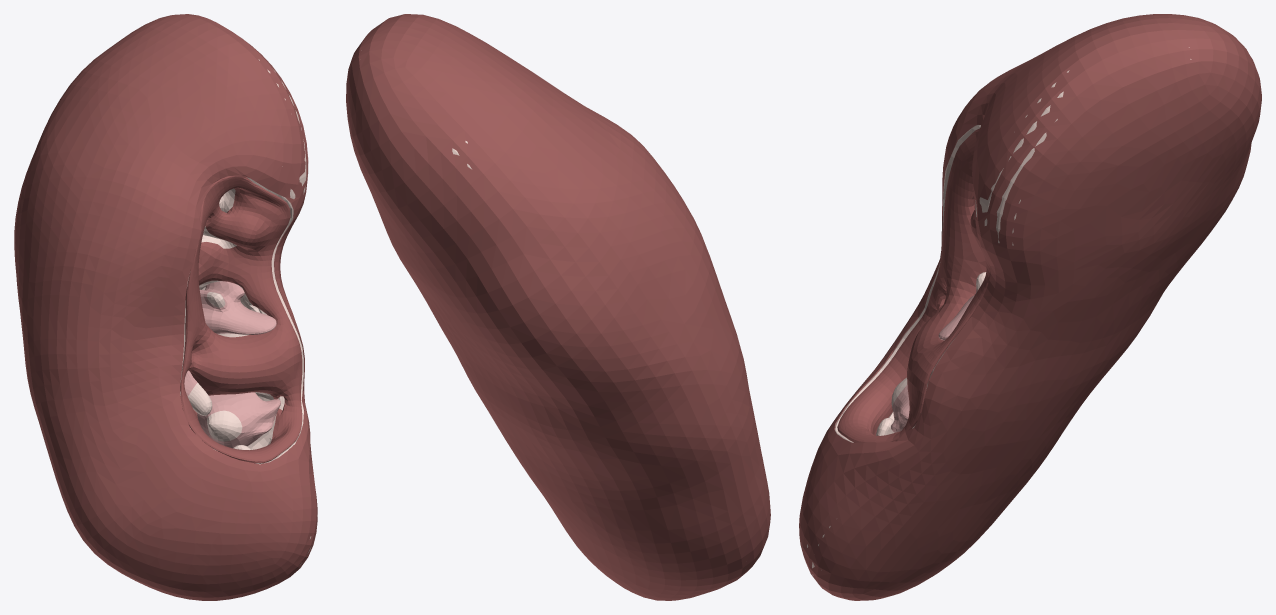
The model's file is VH_M_Kidney_R_0.8.glb.
3 views of the same model, side by side, from view 1: azimuth 30°, elevation 25°; view 2: azimuth 150°, elevation 25°; view 3: azimuth 270°, elevation 25° (orthographic). The views are drawn at different scales.
Parts seen in each view (by area): view 1: VH_M_kidney_capsule_R, VH_M_hilum_of_kidney_R, VH_M_renal_pyramid_f, VH_M_renal_pyramid_h, VH_M_outer_cortex_of_kidney_R, VH_M_renal_column_R, VH_M_renal_papilla_R_h, VH_M_renal_papilla_R_g; view 2: VH_M_kidney_capsule_R; view 3: VH_M_kidney_capsule_R, VH_M_hilum_of_kidney_R, VH_M_outer_cortex_of_kidney_R, VH_M_renal_pyramid_h.
Boxes of the visible parts, x1,y1,x2,y2 form: VH_M_kidney_capsule_R: (14, 14, 317, 600); VH_M_hilum_of_kidney_R: (180, 175, 302, 463); VH_M_renal_pyramid_f: (199, 281, 276, 334); VH_M_renal_pyramid_h: (197, 392, 280, 448); VH_M_outer_cortex_of_kidney_R: (89, 59, 317, 564); VH_M_renal_column_R: (199, 188, 276, 449); VH_M_renal_papilla_R_h: (207, 410, 242, 441); VH_M_renal_papilla_R_g: (188, 382, 212, 415); VH_M_kidney_capsule_R: (346, 14, 770, 600); VH_M_kidney_capsule_R: (799, 14, 1261, 600); VH_M_hilum_of_kidney_R: (837, 128, 990, 442); VH_M_outer_cortex_of_kidney_R: (807, 47, 1191, 575); VH_M_renal_pyramid_h: (891, 384, 909, 432).
Size of the model in its own units: 0.0655 by 0.1125 by 0.0764.
